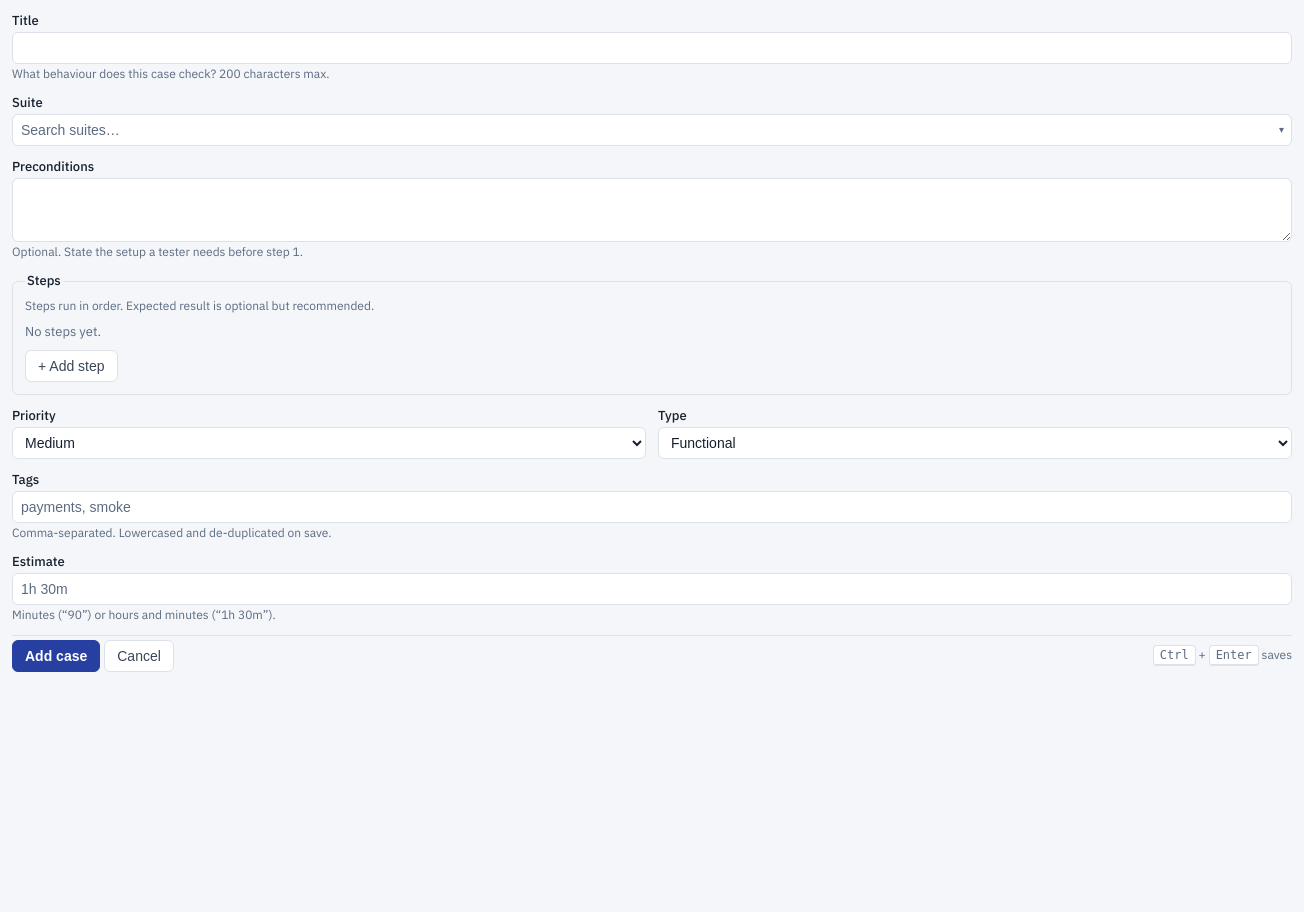
Test: CaseEditor › flags the suite field when a case is saved without one
Type "Missing its suite" into the field labelled "Title". click: (652,48)
box: [12,32,1292,64]
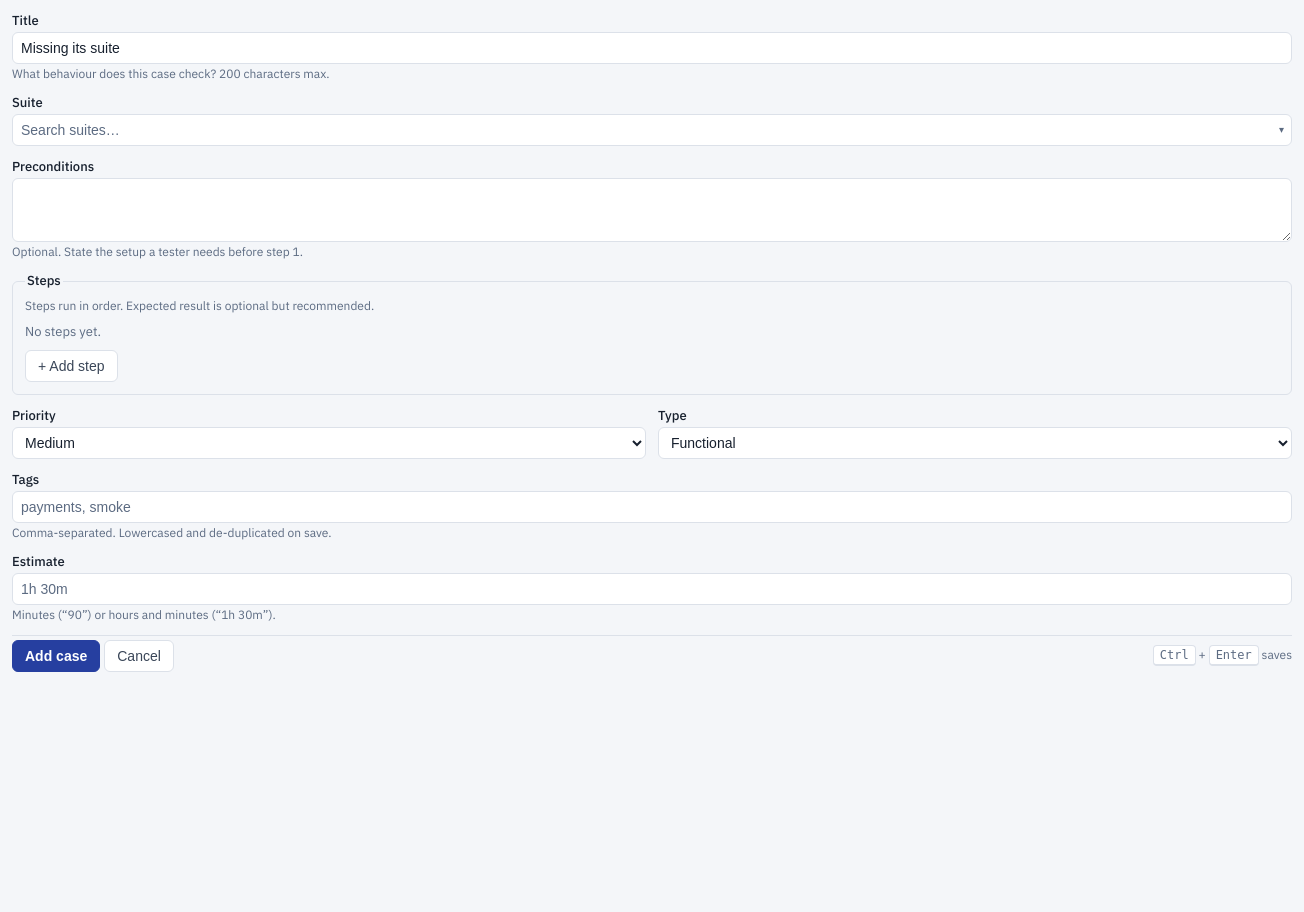
Click the button "Add case". click: (56,656)
box: [12,640,100,672]
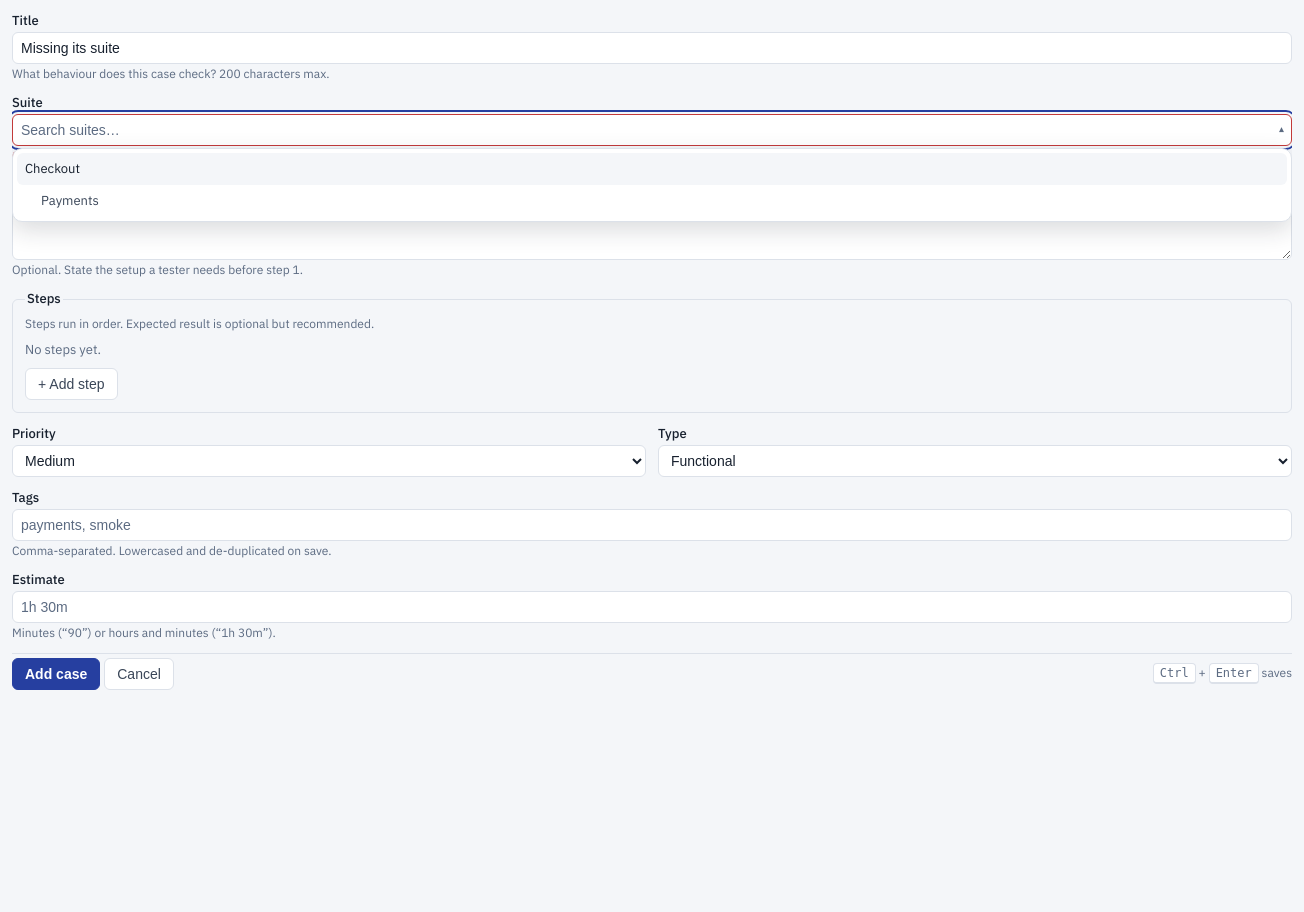
Result: the text "Choose a suite." is shown at [12,148,94,163]
